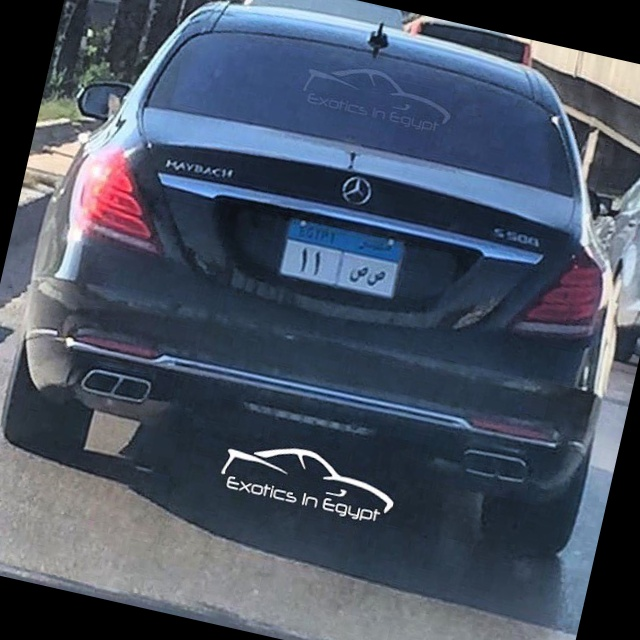License Plate: (272, 210, 411, 305)
